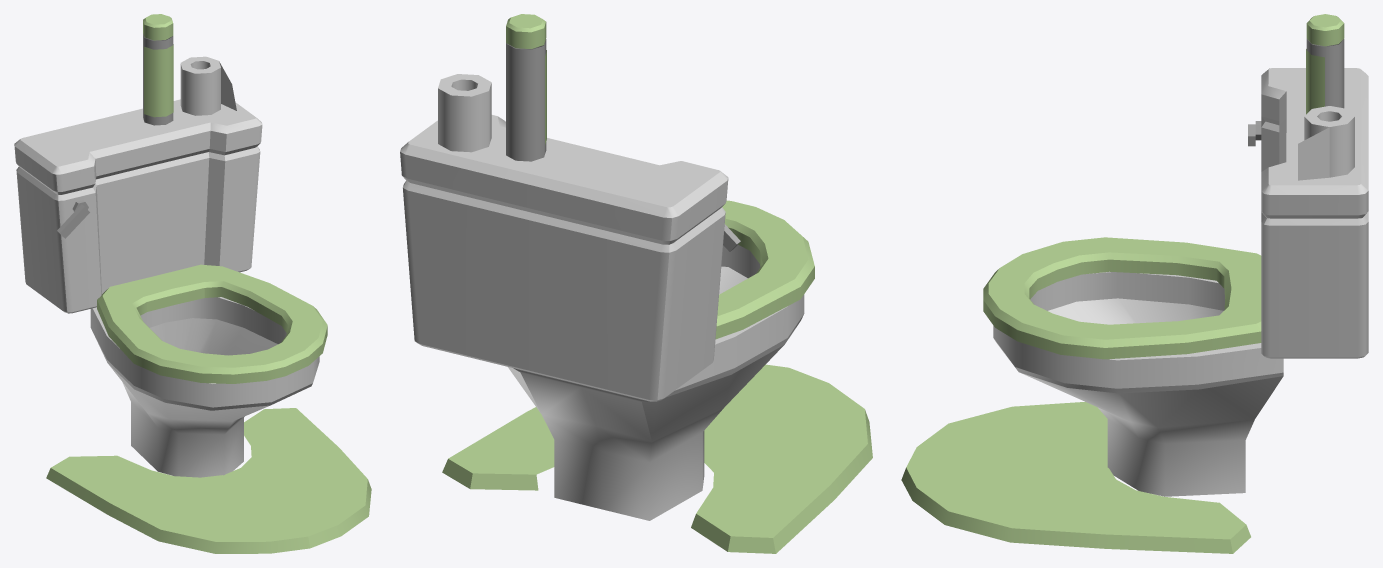
Rendered from toilet_01.fbx.
3 views of the same model, side by side, from view 1: azimuth 30°, elevation 25°; view 2: azimuth 150°, elevation 25°; view 3: azimuth 270°, elevation 25° (orthographic). The views are drawn at different scales.
Visible parts, largest first — view 1: pCube204, pPlane68, pCube203, pCube206, pCylinder65, pCylinder69, pCylinder68, pCylinder67, pCube205, pCylinder66; view 2: pCube204, pPlane68, pCube203, pCube206, pCylinder67, pCylinder65, pCylinder68; view 3: pCube203, pPlane68, pCube204, pCube206, pCylinder65, pCylinder67, pCylinder66, pCylinder68, pCylinder69.
Part boxes in pixels (left/top/right/bottom): pCube204: left=14, top=99, right=262, bottom=313; pPlane68: left=46, top=408, right=371, bottom=553; pCube203: left=90, top=297, right=319, bottom=477; pCube206: left=97, top=264, right=327, bottom=383; pCylinder65: left=180, top=56, right=220, bottom=115; pCylinder69: left=144, top=44, right=173, bottom=117; pCylinder68: left=143, top=14, right=173, bottom=40; pCylinder67: left=143, top=33, right=173, bottom=125; pCube205: left=57, top=204, right=89, bottom=238; pCylinder66: left=219, top=61, right=236, bottom=110; pCube204: left=400, top=115, right=728, bottom=401; pPlane68: left=442, top=364, right=872, bottom=553; pCube203: left=508, top=245, right=804, bottom=520; pCube206: left=715, top=200, right=814, bottom=339; pCylinder67: left=506, top=39, right=546, bottom=161; pCylinder65: left=438, top=74, right=491, bottom=152; pCylinder68: left=506, top=14, right=546, bottom=48; pCube203: left=993, top=271, right=1283, bottom=496; pPlane68: left=901, top=402, right=1250, bottom=553; pCube204: left=1261, top=68, right=1368, bottom=358; pCube206: left=983, top=237, right=1261, bottom=359; pCylinder65: left=1304, top=106, right=1354, bottom=177; pCylinder67: left=1306, top=39, right=1344, bottom=108; pCylinder66: left=1298, top=127, right=1329, bottom=180; pCylinder68: left=1306, top=14, right=1344, bottom=46; pCylinder69: left=1306, top=49, right=1324, bottom=114.
Size of the model in its own units: 6.33 by 9.44 by 8.44.
